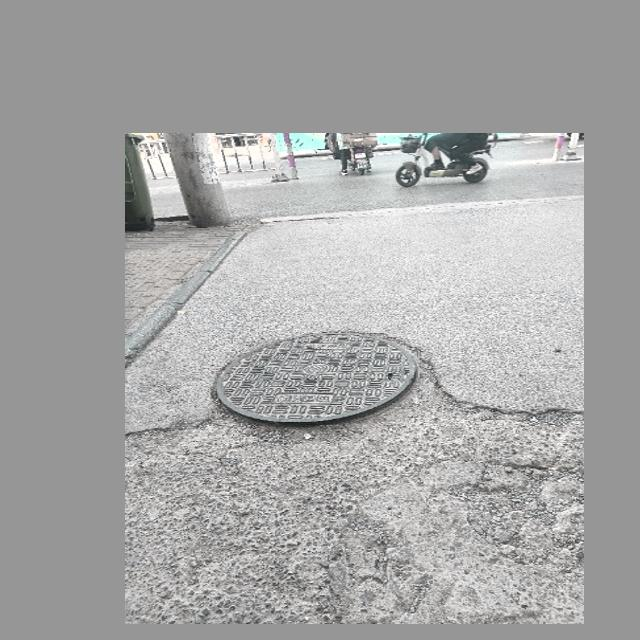good: (207, 331, 427, 424)
